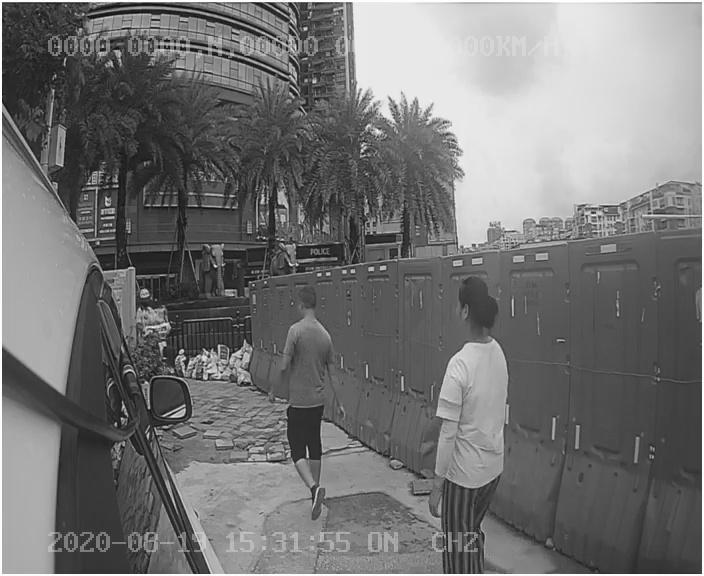person: (422, 271, 514, 568), (261, 286, 363, 519)
